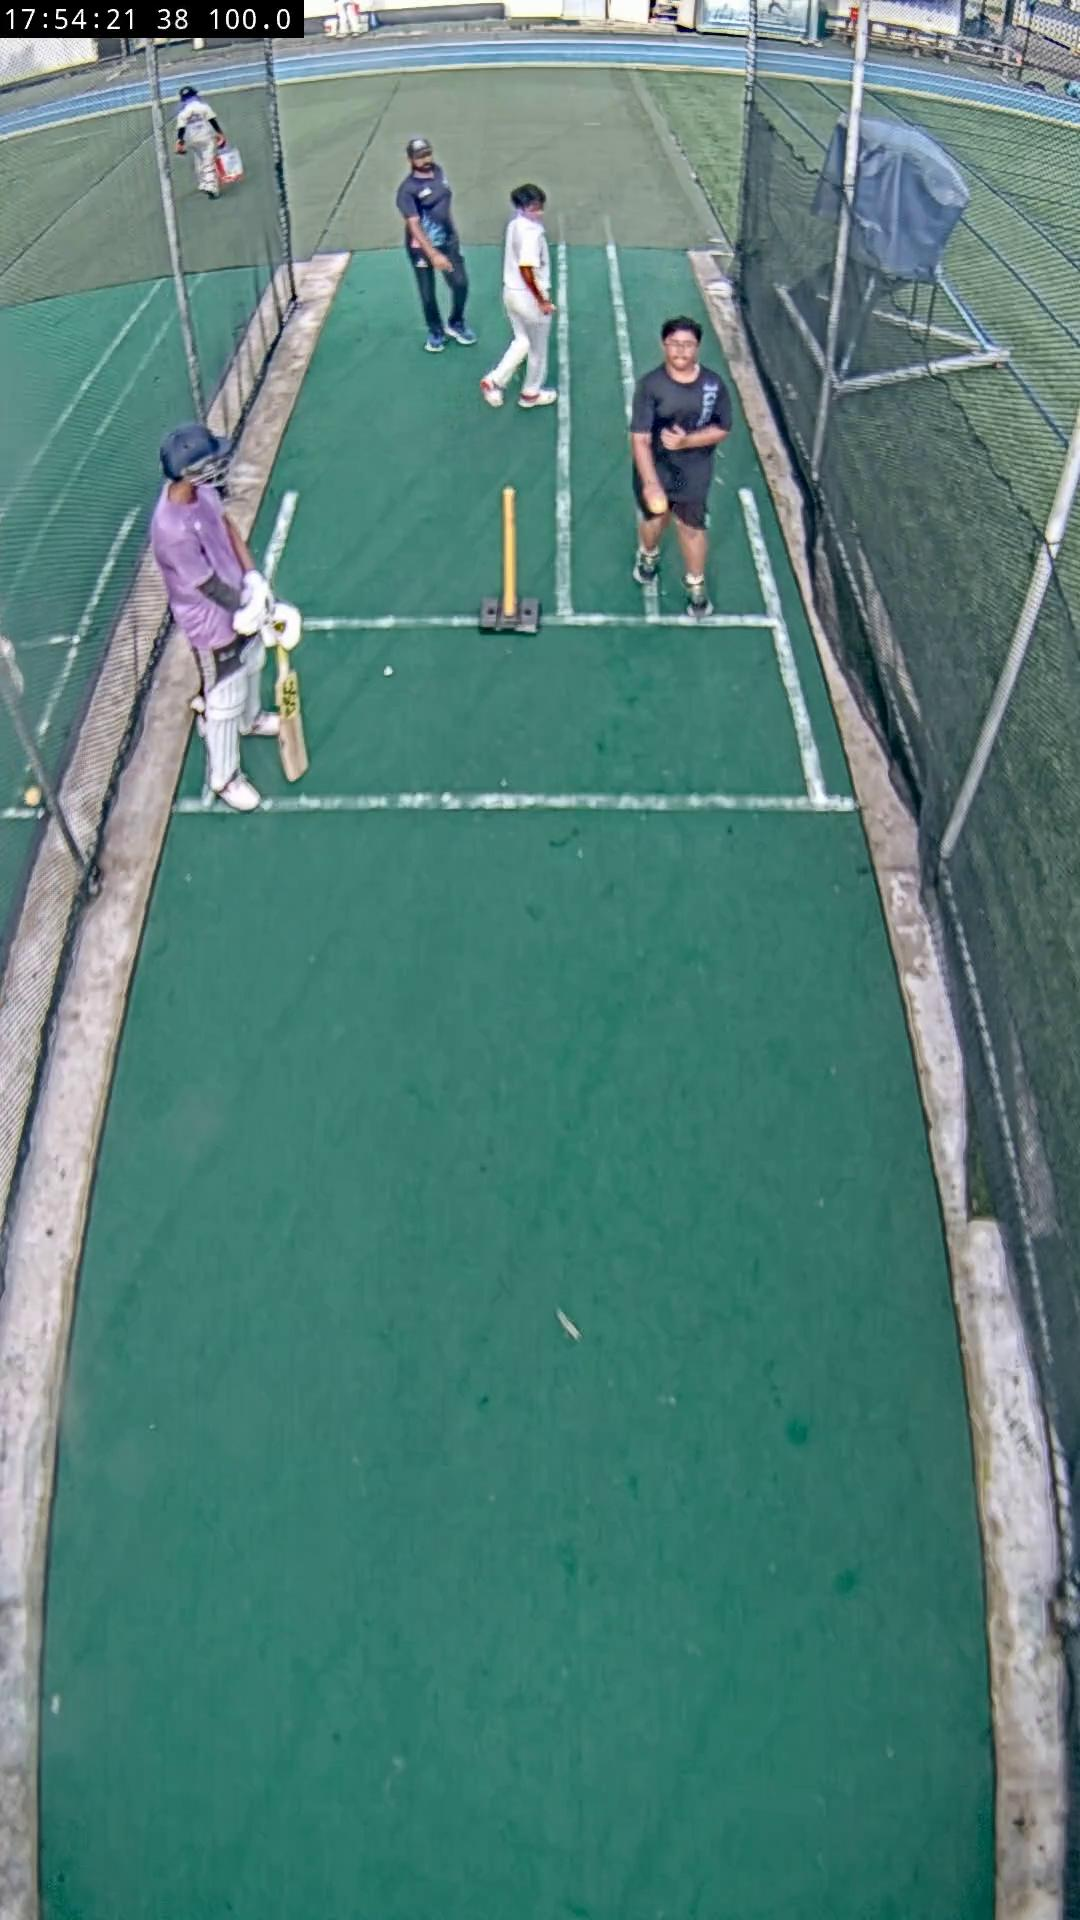ball: (649, 498, 671, 514)
stumps: (480, 488, 541, 634)
